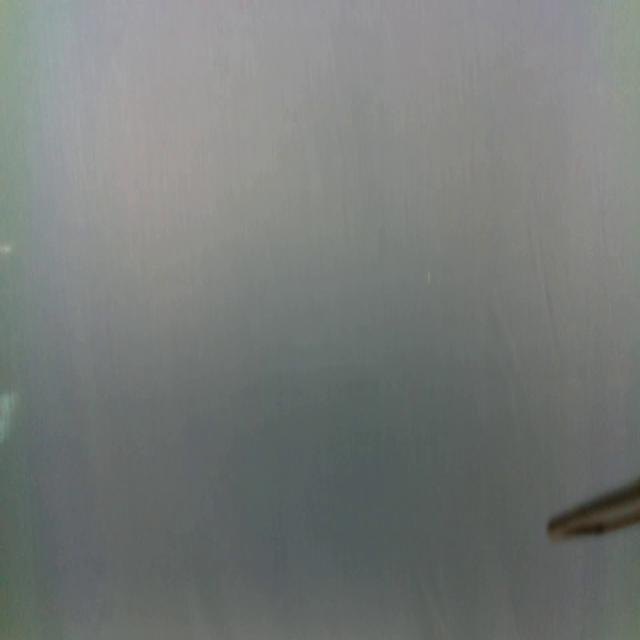hole: (426, 267, 434, 287)
